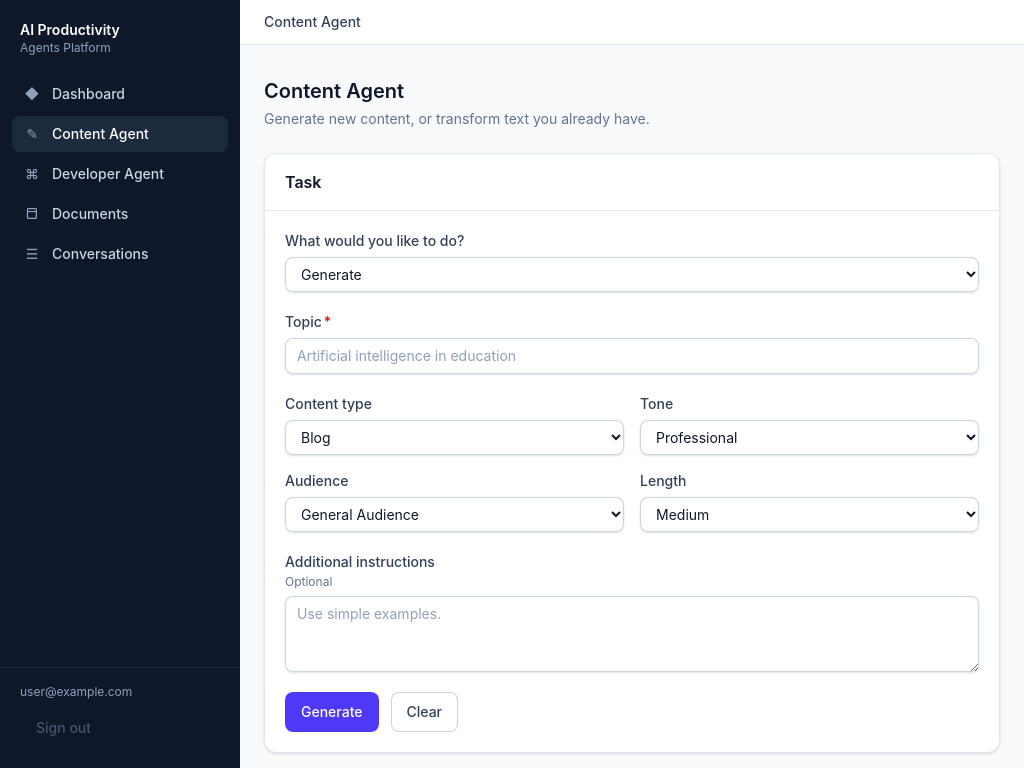
Test: Content Agent › sends the exact backend field names for generation
Type "AI in education" into the field labelled "Topic*" at (632, 356), box [285,338,979,374]
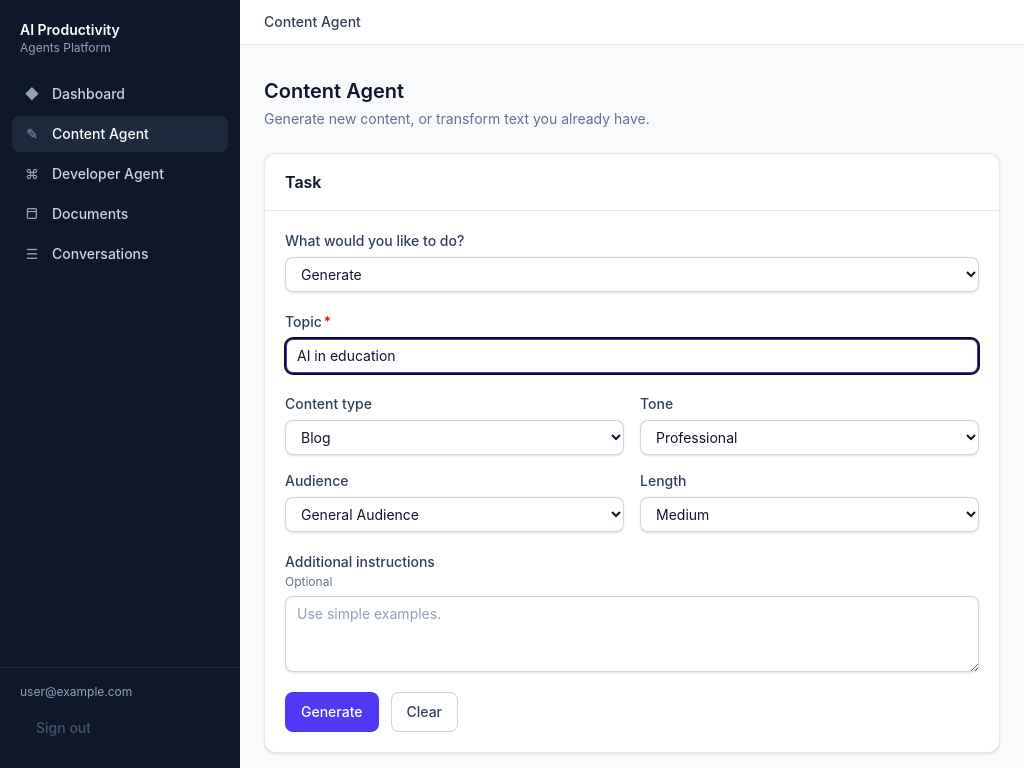
Click the button "Generate" at (332, 712), box [285,692,378,732]
(page scrolled)
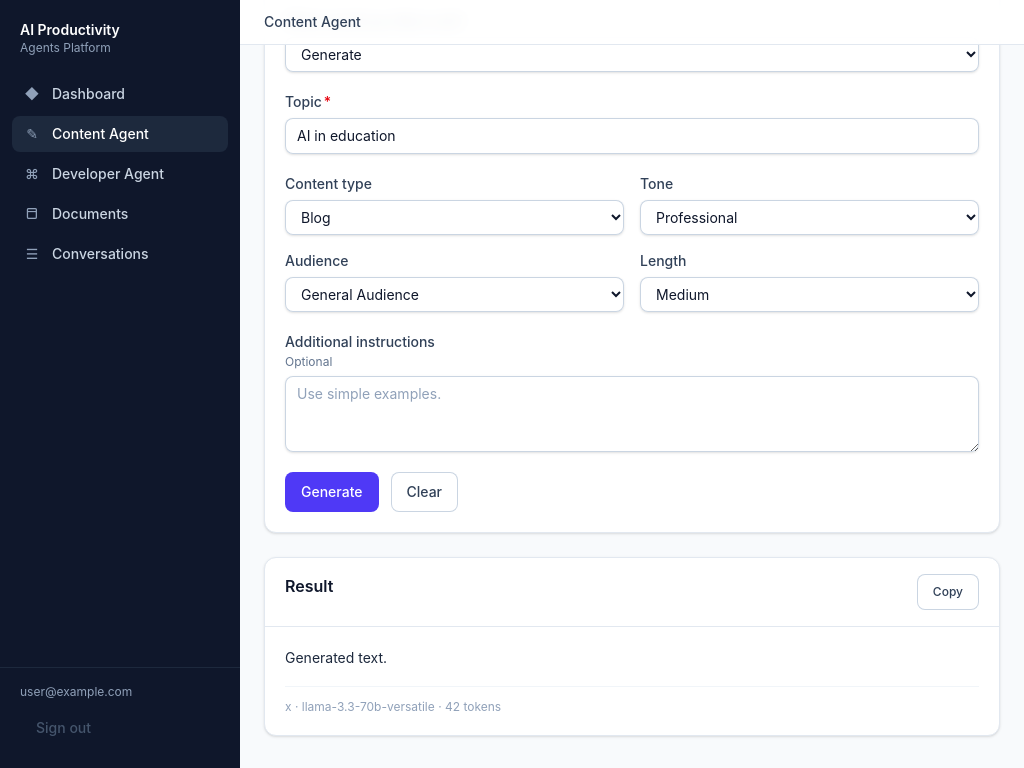
Check: the text "Generated text." is shown, box [285,649,387,666]
